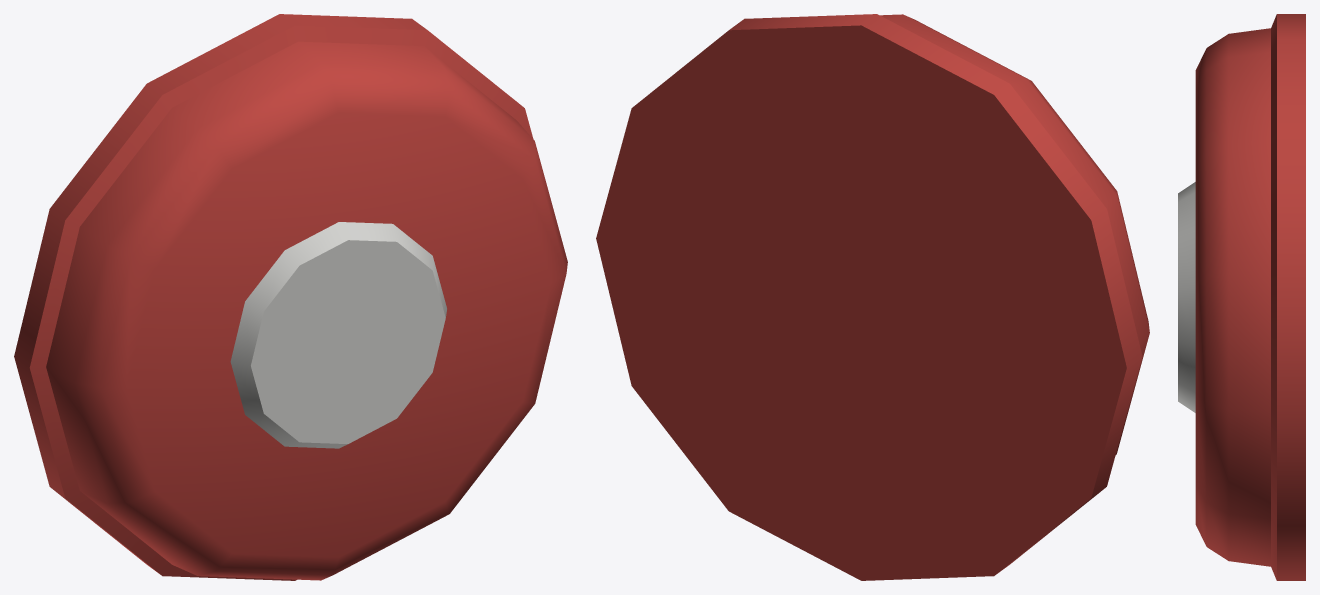
Rendered from clutch_lod1.glb.
3 renders of one model, left to right at view 1: azimuth 30°, elevation 25°; view 2: azimuth 150°, elevation 25°; view 3: azimuth 270°, elevation 25°, orthographic. The views are drawn at different scales.
Visible parts, largest first — view 1: clutch_lod1; view 2: clutch_lod1; view 3: clutch_lod1.
Boxes of the visible parts, bbox=[...] form: clutch_lod1: bbox=[14, 14, 567, 580]; clutch_lod1: bbox=[596, 14, 1149, 580]; clutch_lod1: bbox=[1178, 14, 1305, 580].
Size of the model in its own units: 0.196 by 0.196 by 0.044.
